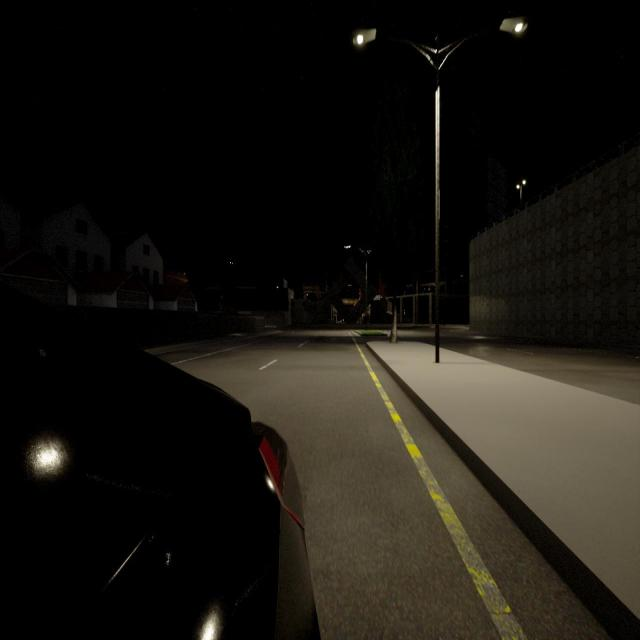Vehicle: (0, 298, 313, 638)
